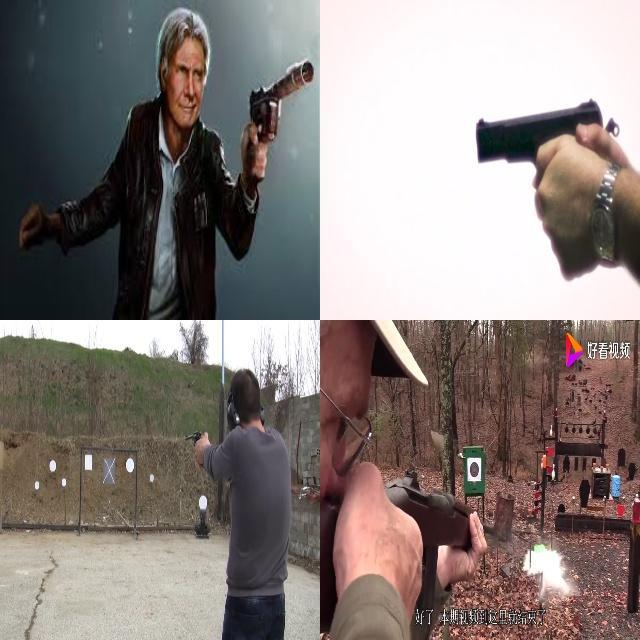gun-knife-thesis - v11 Yolov5 augmented: (336, 472, 505, 632), (470, 96, 621, 246), (236, 44, 315, 200), (179, 427, 209, 470)
